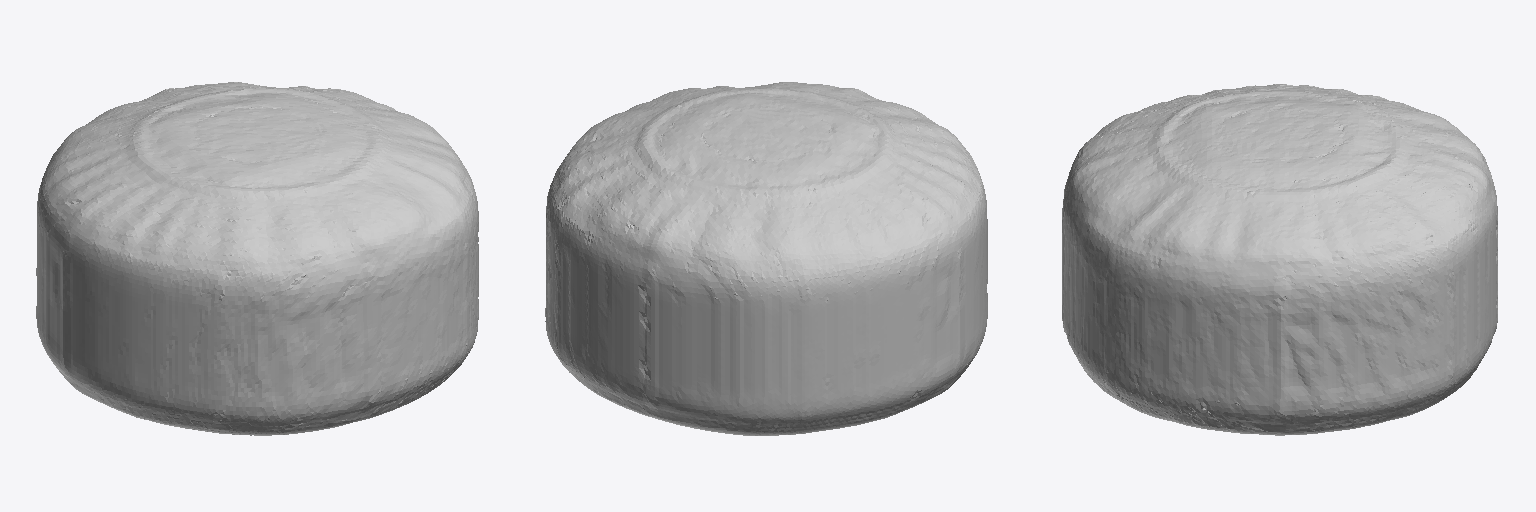
File: watertight_model.obj
The picture shows the model from 3 angles: view 1: azimuth 30°, elevation 25°; view 2: azimuth 150°, elevation 25°; view 3: azimuth 270°, elevation 25°; orthographic projection.
Bounding box in the file's own units: 0.5485 × 0.3372 × 0.539.